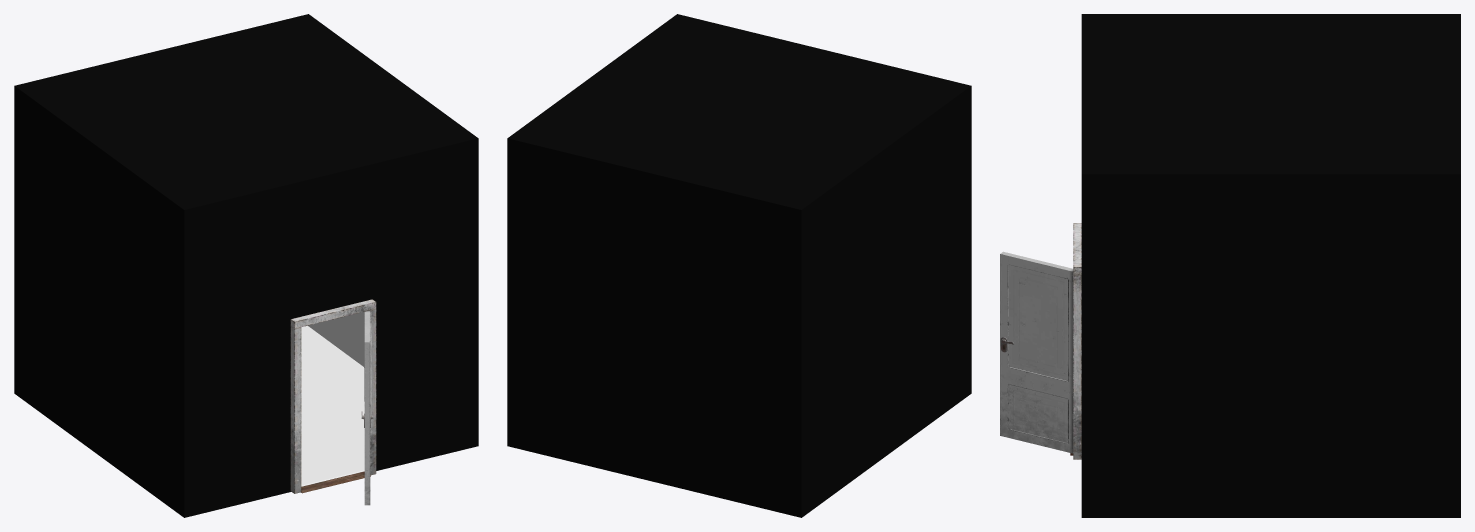
The model's file is PUERTA.fbx.
3 views of the same model, side by side, from view 1: azimuth 30°, elevation 25°; view 2: azimuth 150°, elevation 25°; view 3: azimuth 270°, elevation 25° (orthographic). The views are drawn at different scales.
Parts seen in each view (by area): view 1: Cube, Door; view 2: Cube; view 3: Cube, Door.
Boxes of the visible parts, x1=… form: Cube: x1=14, y1=14, x2=478, y2=517; Door: x1=290, y1=299, x2=376, y2=505; Cube: x1=507, y1=14, x2=971, y2=517; Cube: x1=1081, y1=14, x2=1460, y2=517; Door: x1=1000, y1=223, x2=1081, y2=459.
Bounding box in the file's own units: 474 × 474 × 576.
